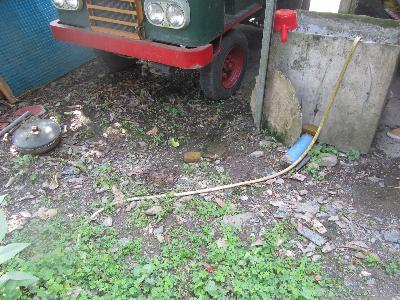bowl: (10, 113, 64, 154), (270, 7, 299, 32)
